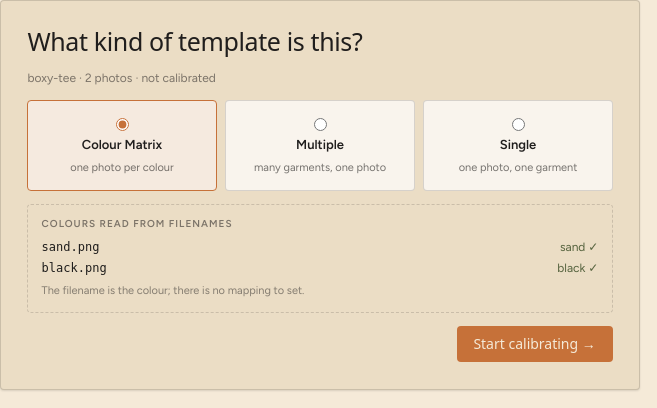
Scenario: KindPicker › hides the colour report once a scene kind is chosen
The width and height of the screenshot is (657, 408).
Check: the text "sand.png" is shown, box [42, 238, 99, 257]
Click the radio button labelled "Single one photo, one garment". click: (519, 124)
box: [512, 118, 526, 130]
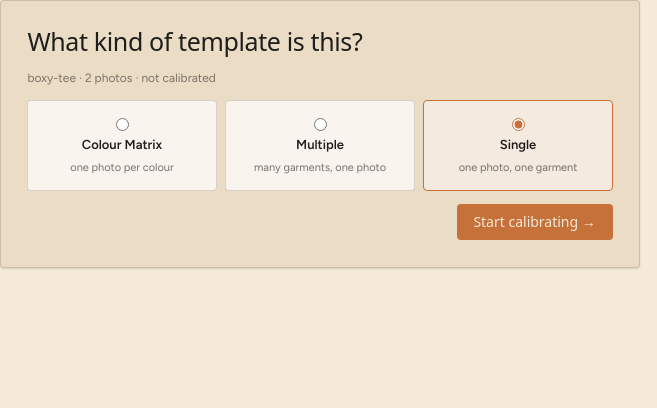
Check: the text "sand.png" is gone
